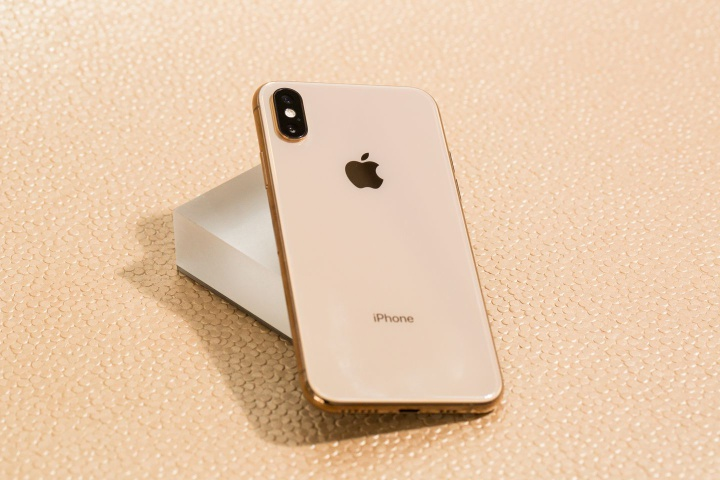apple: (337, 141, 387, 204)
